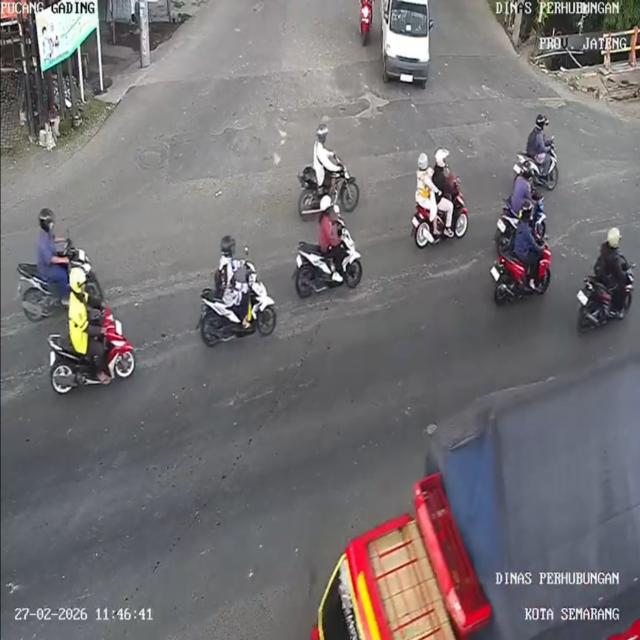motorcycle: (43, 322, 140, 391), (192, 273, 277, 347), (14, 253, 106, 313), (290, 240, 367, 301), (575, 272, 637, 332), (495, 246, 554, 308), (412, 192, 471, 253), (295, 165, 361, 219), (517, 149, 559, 193), (497, 209, 515, 251), (356, 5, 374, 46)
person: (66, 270, 104, 352), (31, 202, 66, 280), (594, 226, 628, 304), (306, 120, 338, 186), (315, 196, 345, 266), (212, 235, 242, 305), (512, 205, 538, 265), (510, 163, 538, 213), (527, 110, 551, 164), (434, 142, 455, 202), (413, 155, 434, 208)
rider_region: (45, 270, 137, 390), (17, 200, 110, 316), (198, 237, 283, 345), (295, 192, 365, 300), (572, 224, 636, 330), (296, 121, 362, 214), (413, 148, 470, 251), (496, 208, 552, 304), (494, 162, 548, 234), (515, 112, 562, 192)
